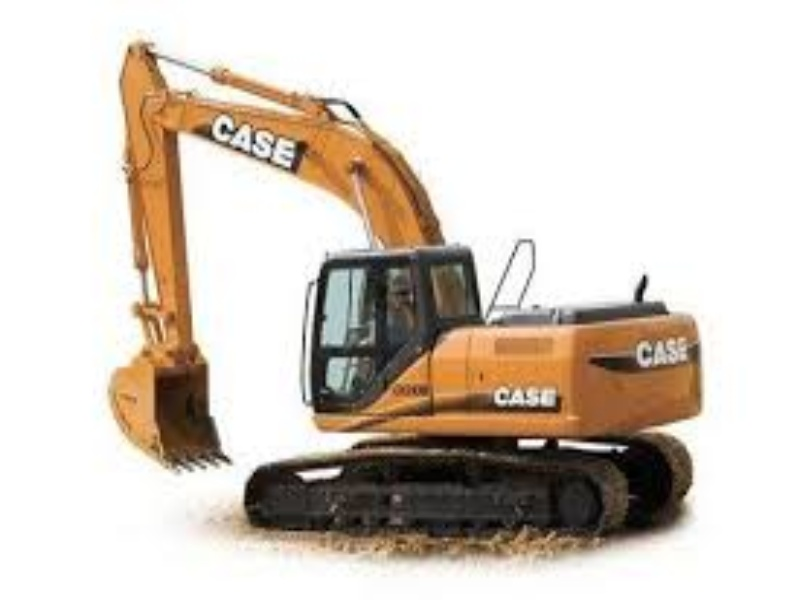wajueji: (209, 114, 767, 600)
